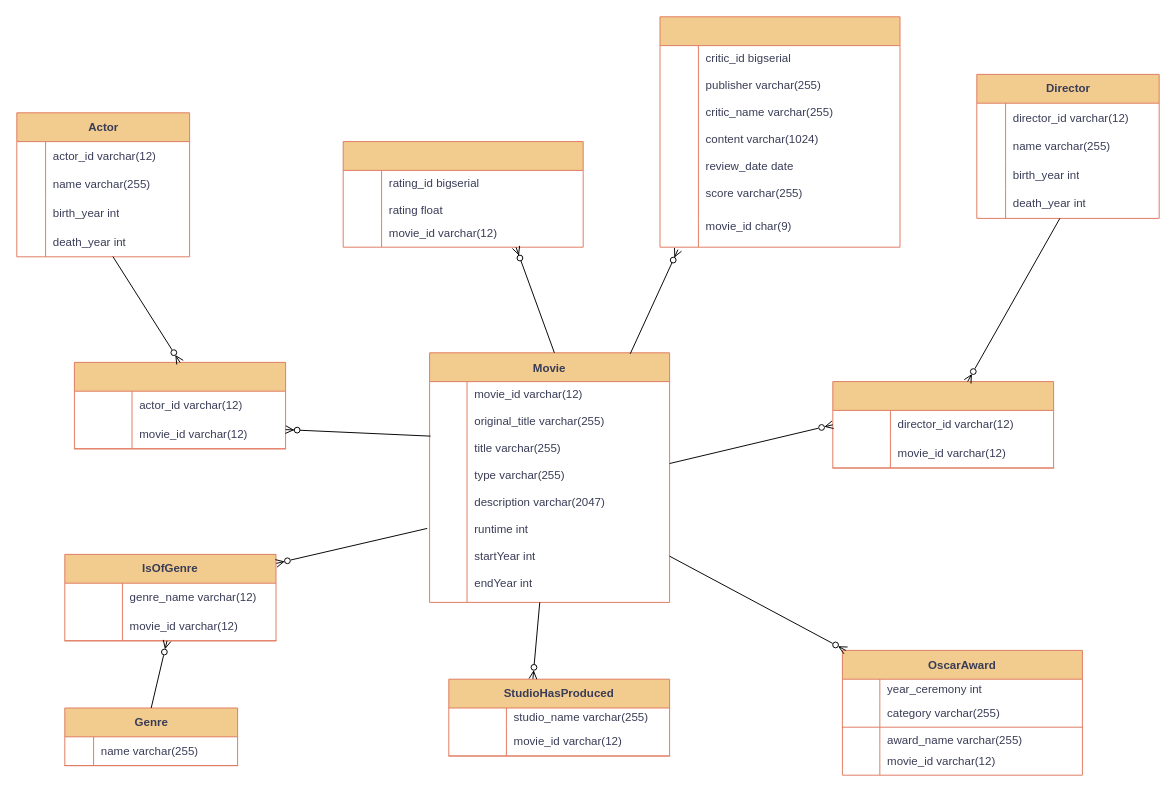
Some shapes in this 1176 by 792 pixel diagram are drawn without their labels. The box of each missing label's shape, as (x1, y1, x2, y2) in pixels:
CriticReview: (659, 16, 900, 247)
HasActedIn: (73, 361, 286, 449)
HasDirected: (832, 381, 1054, 468)
UserRating: (342, 141, 583, 247)
